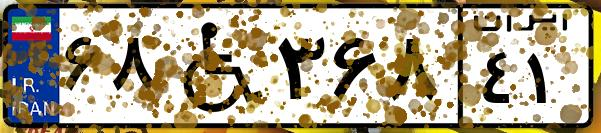1: (525, 38, 570, 115)
3: (270, 28, 330, 110)
4: (475, 38, 525, 113)
6: (330, 28, 385, 110), (57, 26, 110, 100)
8: (385, 28, 445, 110), (110, 28, 158, 98)
ژ (معلولین و جانبازان): (158, 12, 270, 120)
